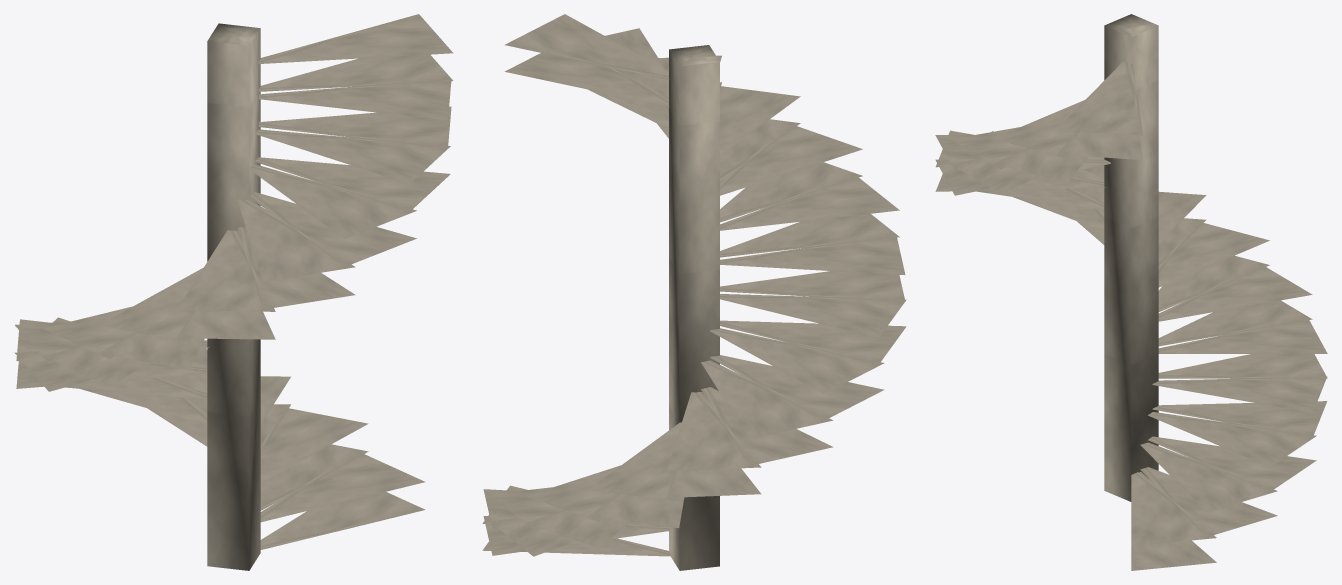
The model's file is Stair_Spiral_1_LOD2.gltf.
The picture shows the model from 3 angles, left to right: view 1: azimuth 30°, elevation 25°; view 2: azimuth 150°, elevation 25°; view 3: azimuth 270°, elevation 25°; orthographic projection. The views are drawn at different scales.
Parts seen in each view (by area): view 1: Stair_Spiral_1_LOD2; view 2: Stair_Spiral_1_LOD2; view 3: Stair_Spiral_1_LOD2.
Part boxes in pixels (bbox=[...]): Stair_Spiral_1_LOD2: bbox=[14, 14, 453, 570]; Stair_Spiral_1_LOD2: bbox=[482, 14, 906, 570]; Stair_Spiral_1_LOD2: bbox=[935, 14, 1327, 570].
Size of the model in its own units: 2.6 by 3.4 by 2.6.
Materials: 1 (1 with a texture image).
